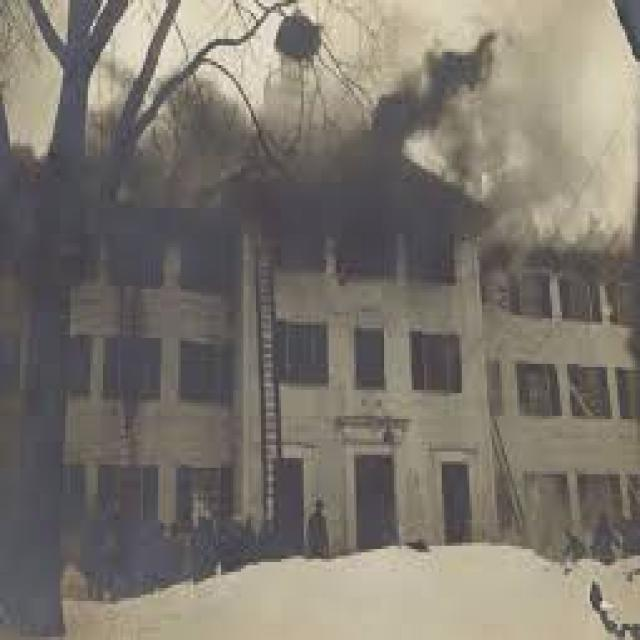smoke: (227, 23, 640, 251)
